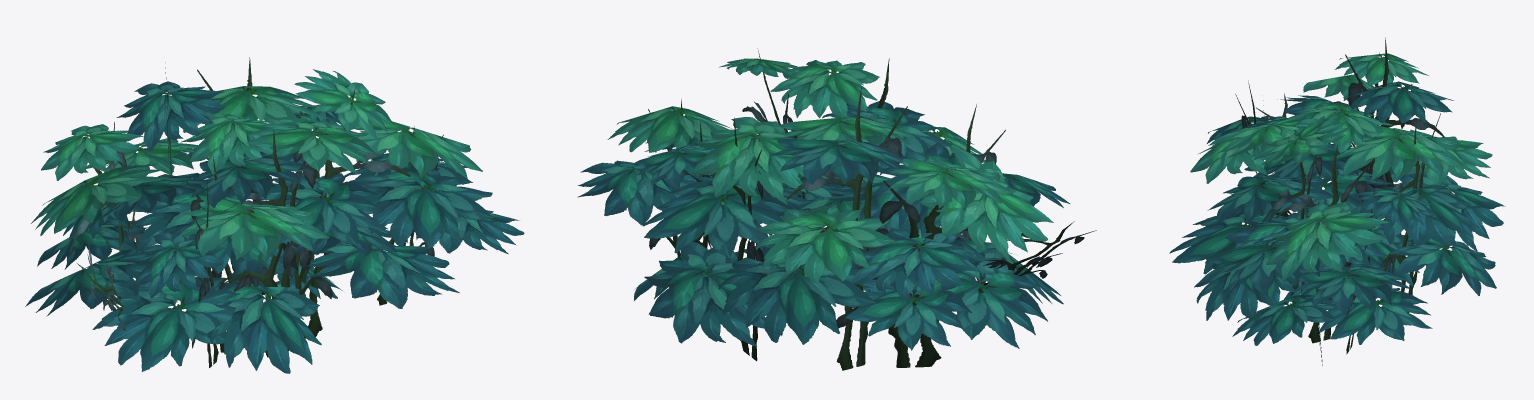
The model's file is fb_qqs_gm_02.FBX.
3 renders of one model, left to right at view 1: azimuth 30°, elevation 25°; view 2: azimuth 150°, elevation 25°; view 3: azimuth 270°, elevation 25°, orthographic. The views are drawn at different scales.
Visible parts, largest first — view 1: fb_qqs_gm_02; view 2: fb_qqs_gm_02; view 3: fb_qqs_gm_02.
Part boxes in pixels (x1,y1,x2,y2): fb_qqs_gm_02: (25, 57, 524, 373); fb_qqs_gm_02: (577, 48, 1096, 370); fb_qqs_gm_02: (1169, 37, 1505, 365).
Size of the model in its own units: 489 by 278 by 360.
